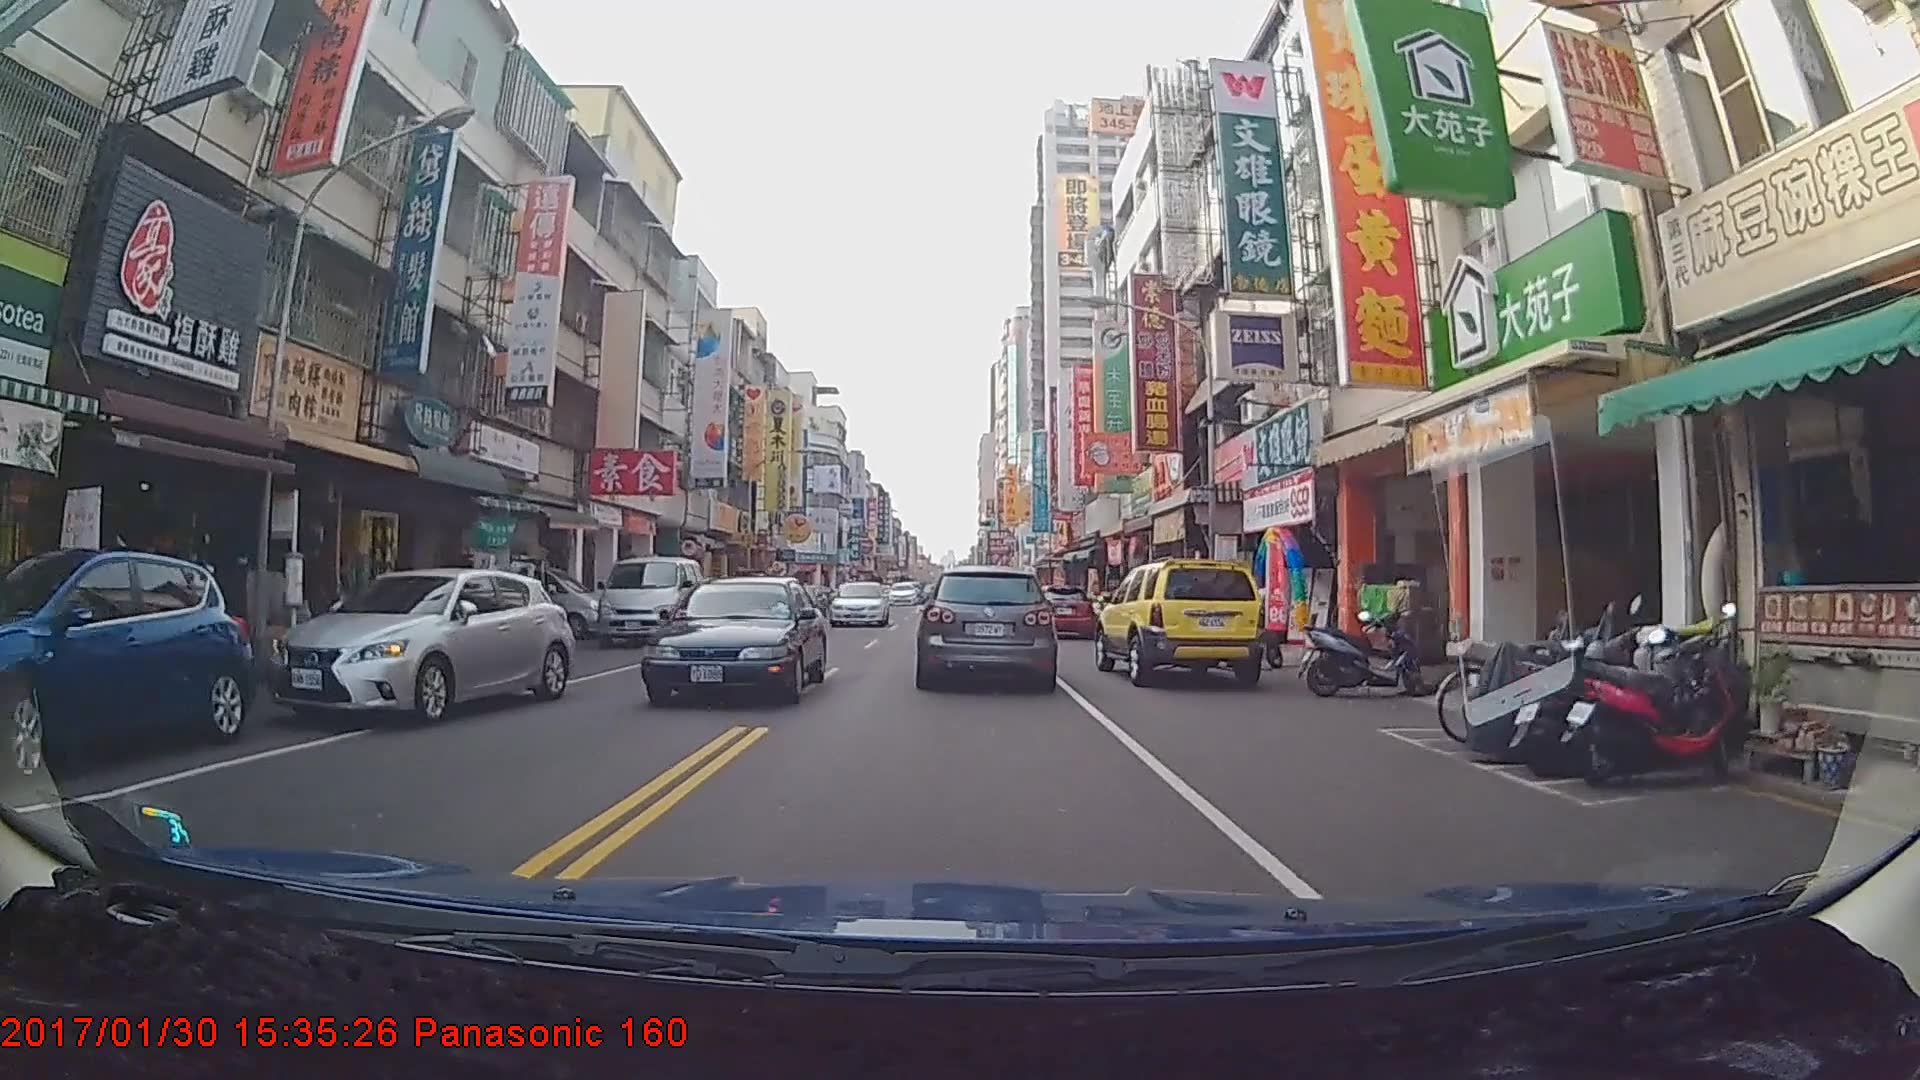vehicle: (0, 546, 255, 775), (258, 566, 574, 725), (634, 572, 829, 709), (1096, 553, 1267, 686), (920, 562, 1056, 688), (596, 556, 705, 644), (1029, 585, 1096, 640), (827, 582, 887, 629), (889, 582, 919, 607)
